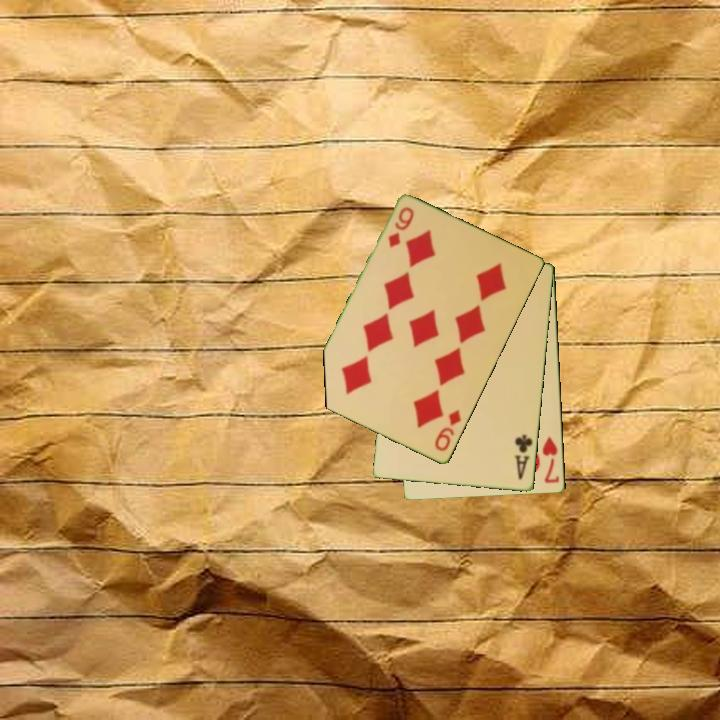7h: (539, 433, 562, 486)
9d: (431, 406, 464, 455), (384, 204, 417, 251)
Ac: (511, 432, 536, 483)
